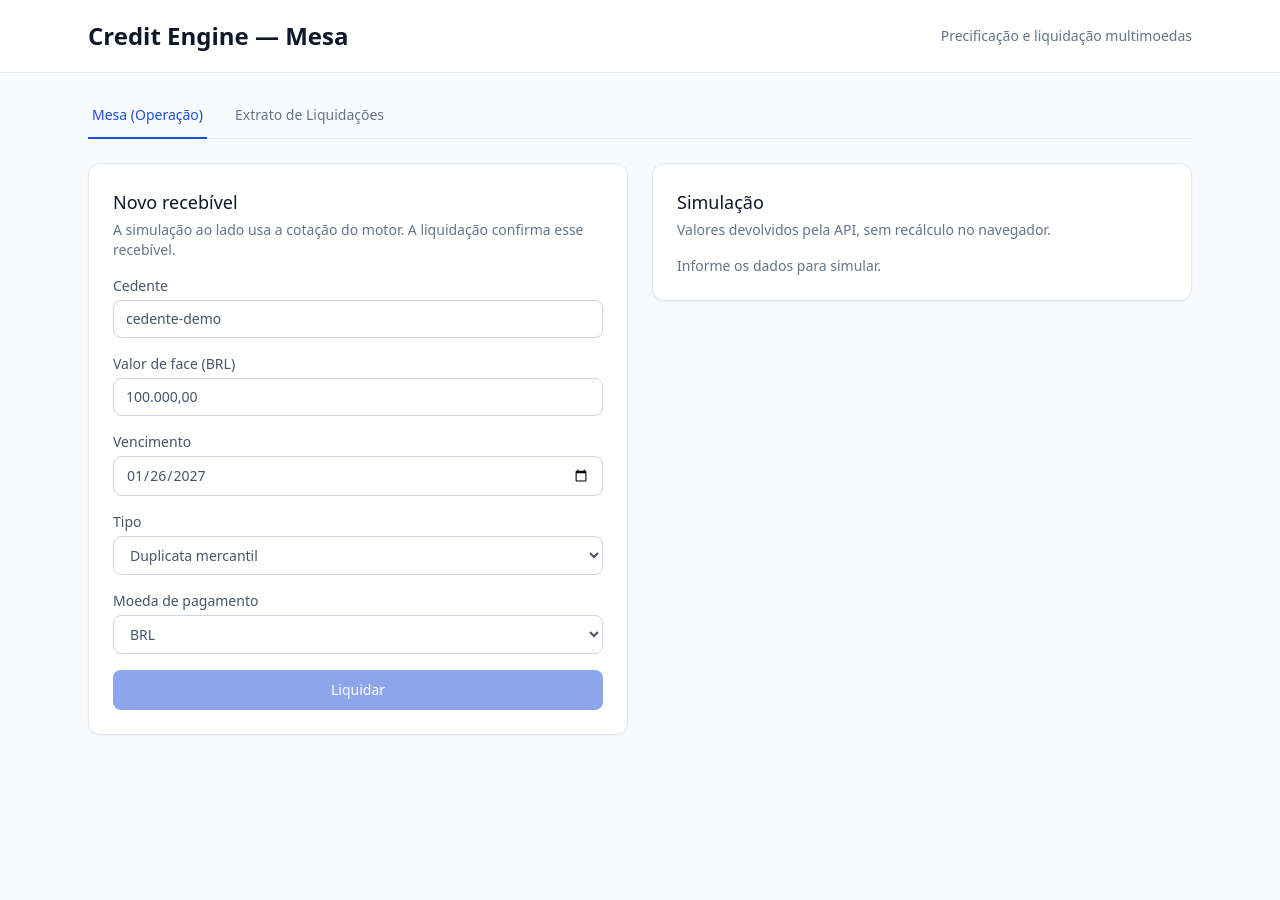
it: requests the next and previous server pages
The image size is (1280, 900).
Step 1. Click the tab "Extrato de Liquidações" → (310, 122), box [231,105,388,139]
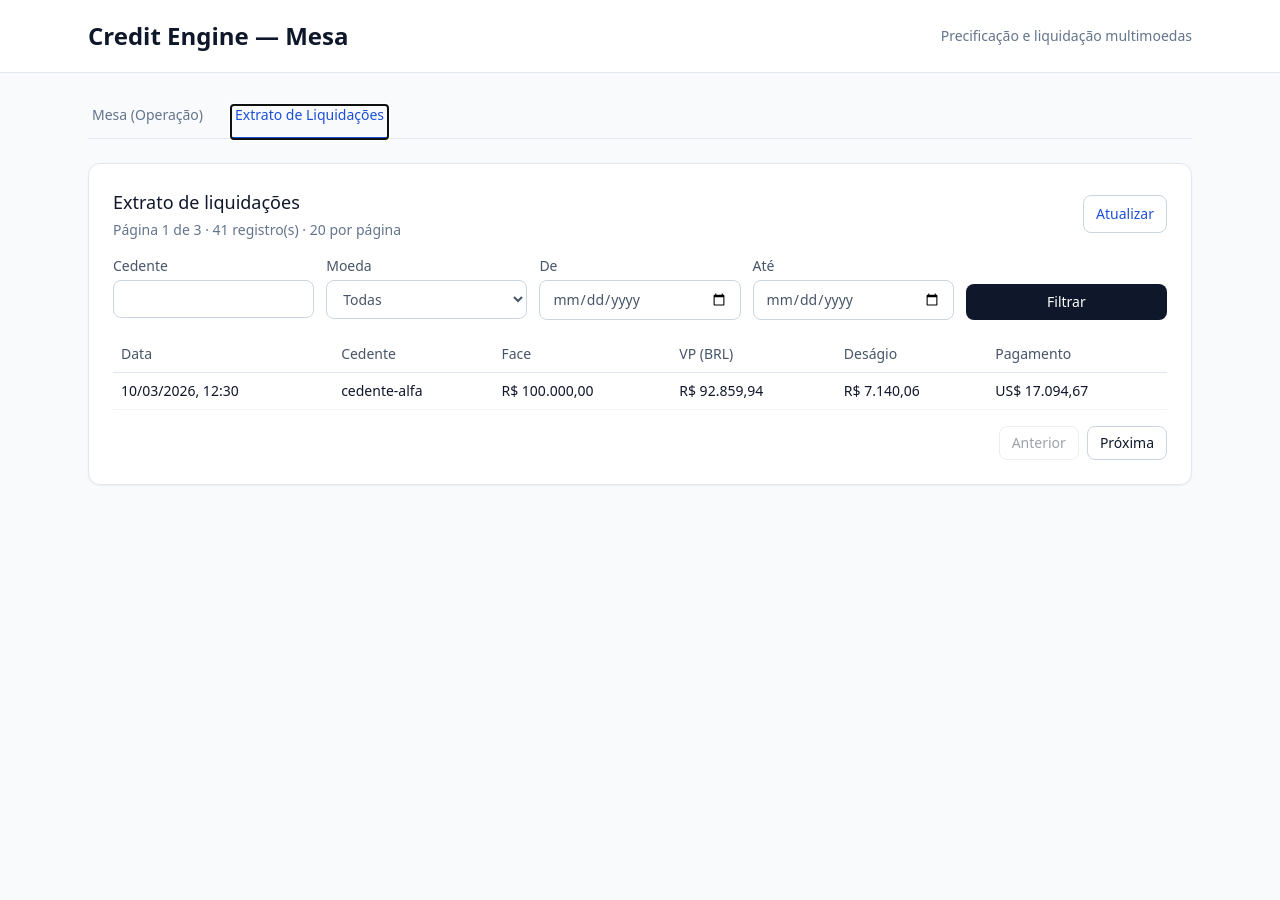
Result: the cell "cedente-alfa" is shown at [333,372,494,410]
Step 2. Click the button "Próxima" → (1127, 443), box [1087,426,1167,460]
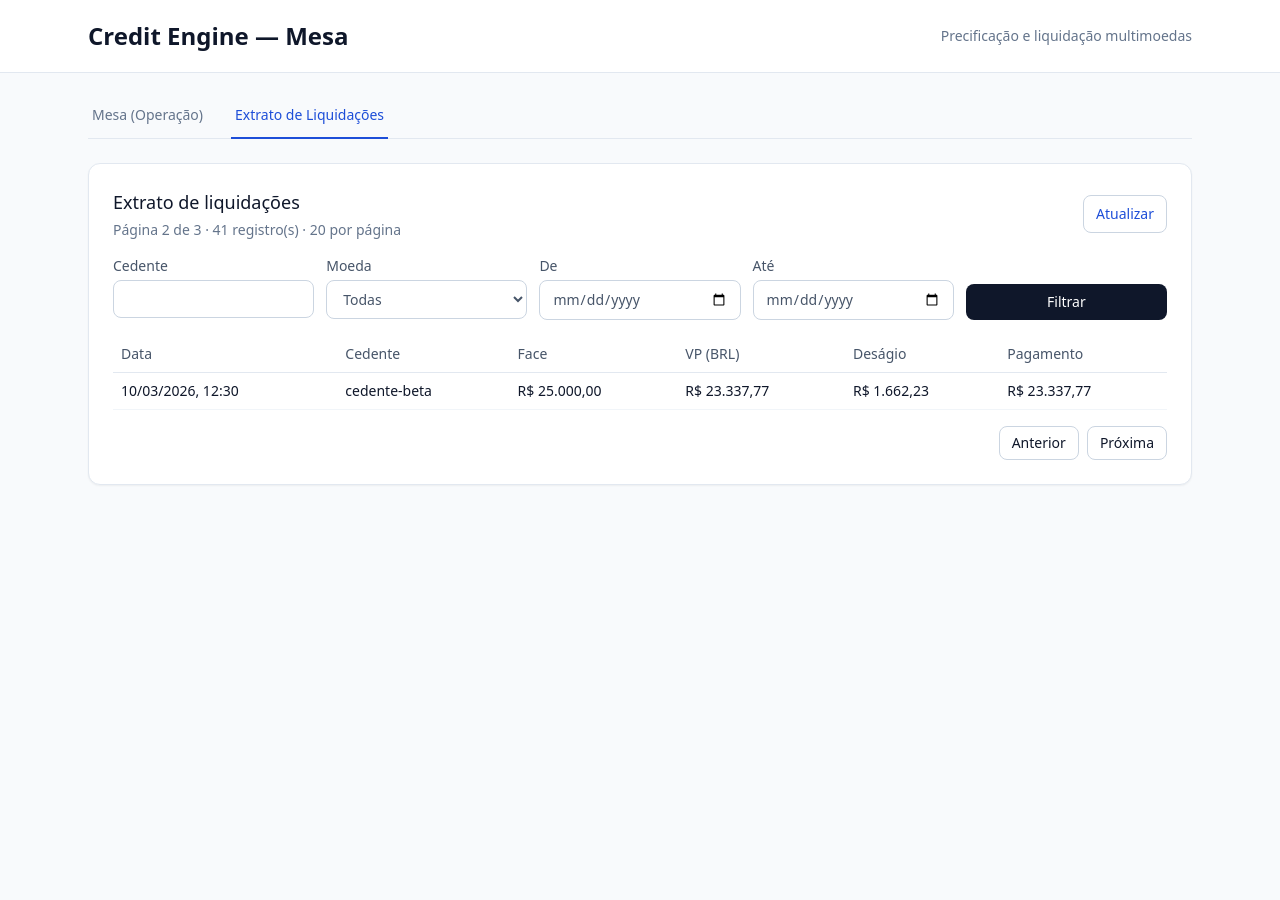
Result: the cell "cedente-beta" is shown at [337,372,510,410]
Step 3. Click the button "Anterior" → (1039, 443), box [999,426,1079,460]
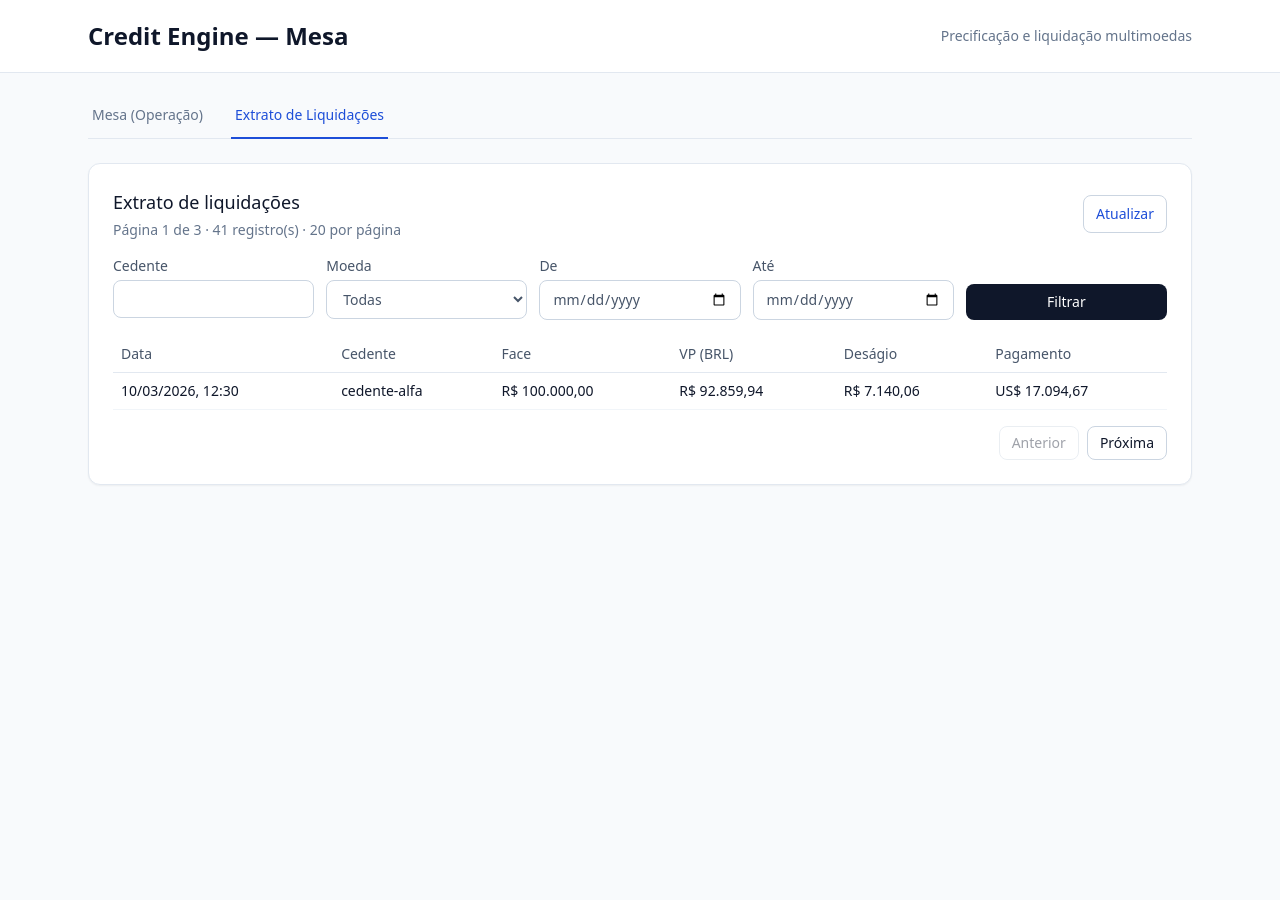
Result: the cell "cedente-alfa" is shown at [333,372,494,410]
